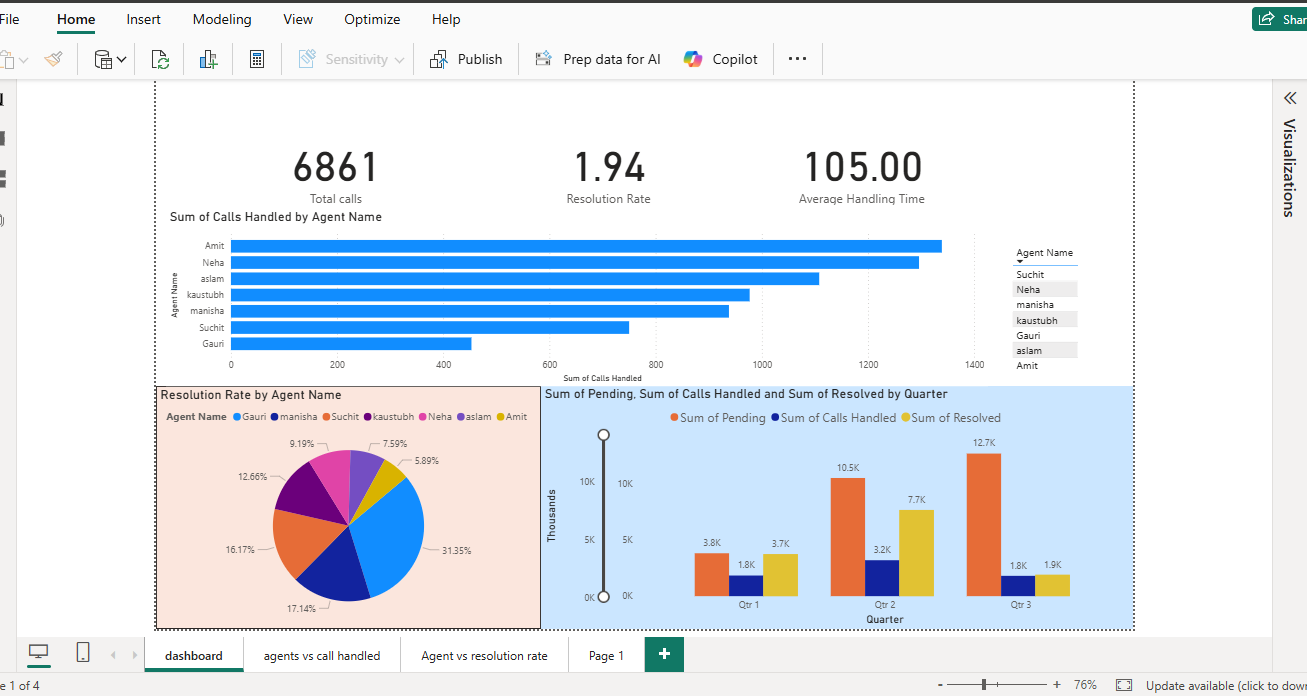

The dashboard page shown, as its layout file describes it:
{"tool":"powerbi","page":{"name":"dashboard","canvas":[1280,720],"ordinal":0},"visuals":[{"type":"card","fields":{"Values":["call center.Total calls"]},"box":[95.6,66.8,280.1,103.4],"z":0},{"type":"card","fields":{"Values":["call center.Resolution Rate"]},"box":[451.6,66.8,281.5,103.4],"z":2},{"type":"card","fields":{"Values":["call center.Average Handling Time"]},"box":[746.2,66.8,356.1,103.4],"z":3},{"type":"clusteredColumnChart","fields":{"Category":["call center.Date.Variation.Date Hierarchy.Quarter"],"Y":["Sum(call center.Pending)","Sum(call center.Calls Handled)","Sum(call center.Resolved)"]},"box":[504,401.9,776.3,318.1],"z":4},{"type":"pieChart","fields":{"Category":["call center.Agent Name"],"Y":["call center.Resolution Rate"]},"box":[0,401.9,504,318.1],"z":6},{"type":"barChart","fields":{"Y":["Sum(call center.Calls Handled)"],"Category":["call center.Agent Name"]},"box":[13.1,170.2,1076.1,231.7],"z":7},{"type":"tableEx","fields":{"Values":["call center.Agent Name"]},"box":[1115.3,212.1,124.4,179.3],"z":8}]}

Visuals, with their boxes on the page's 1280x720 design canvas (x1, y1, x2, y2). These are canvas units, not pixel positions in the 1307x696 screenshot, which may show the page scaled, cropped or inside an application window:
card - call center.Total calls: (left=96, top=67, right=376, bottom=170)
card - call center.Resolution Rate: (left=452, top=67, right=733, bottom=170)
card - call center.Average Handling Time: (left=746, top=67, right=1102, bottom=170)
clusteredColumnChart - call center.Date.Variation.Date Hierarchy.Quarter x Sum(call center.Pending): (left=504, top=402, right=1280, bottom=720)
pieChart - call center.Agent Name x call center.Resolution Rate: (left=0, top=402, right=504, bottom=720)
barChart - Sum(call center.Calls Handled) x call center.Agent Name: (left=13, top=170, right=1089, bottom=402)
tableEx - call center.Agent Name: (left=1115, top=212, right=1240, bottom=391)
